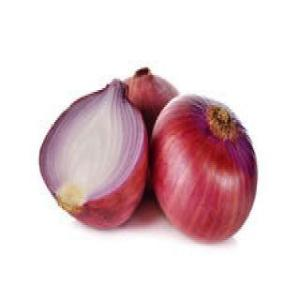onion: (149, 86, 259, 246), (38, 78, 150, 235)
